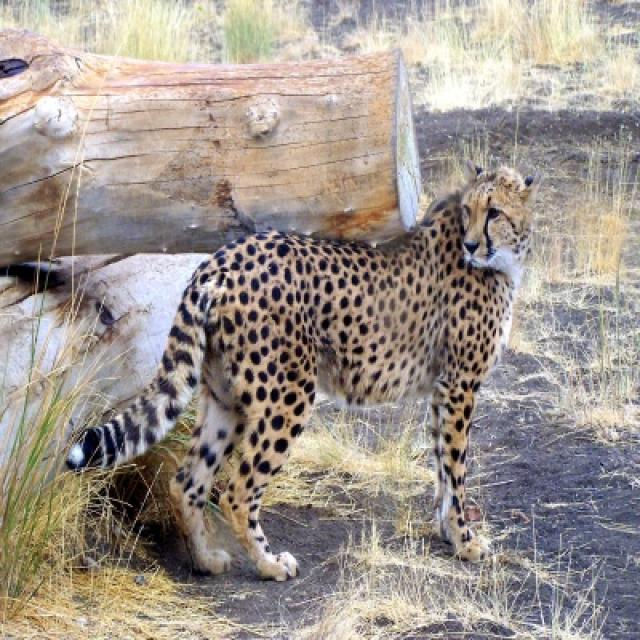Cheetah: (67, 166, 531, 584)
